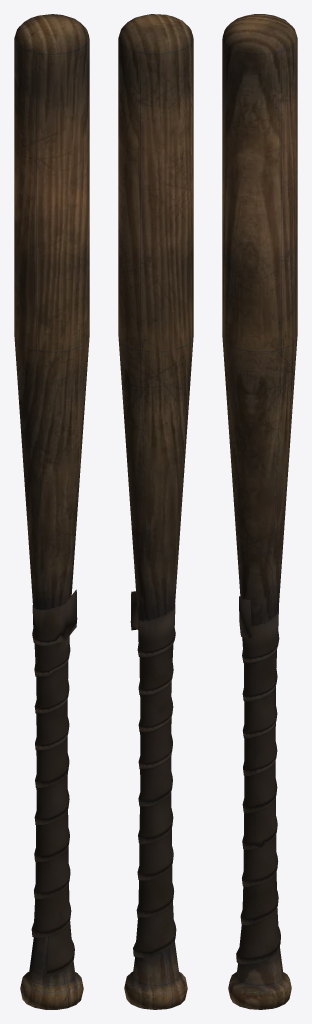
Rendered from baseball_bat.glb.
3 renders of one model, left to right at view 1: azimuth 30°, elevation 25°; view 2: azimuth 210°, elevation 25°; view 3: azimuth 270°, elevation 25°, orthographic.
Visible parts, largest first — view 1: baseball_bat; view 2: baseball_bat; view 3: baseball_bat.
Part boxes in pixels (bbox=[...]): baseball_bat: bbox=[14, 14, 89, 1009]; baseball_bat: bbox=[118, 14, 193, 1009]; baseball_bat: bbox=[222, 14, 297, 1009].
Bounding box in the file's own units: 0.0635 × 0.9132 × 0.0635.
Materials: 1 (1 with a texture image).
